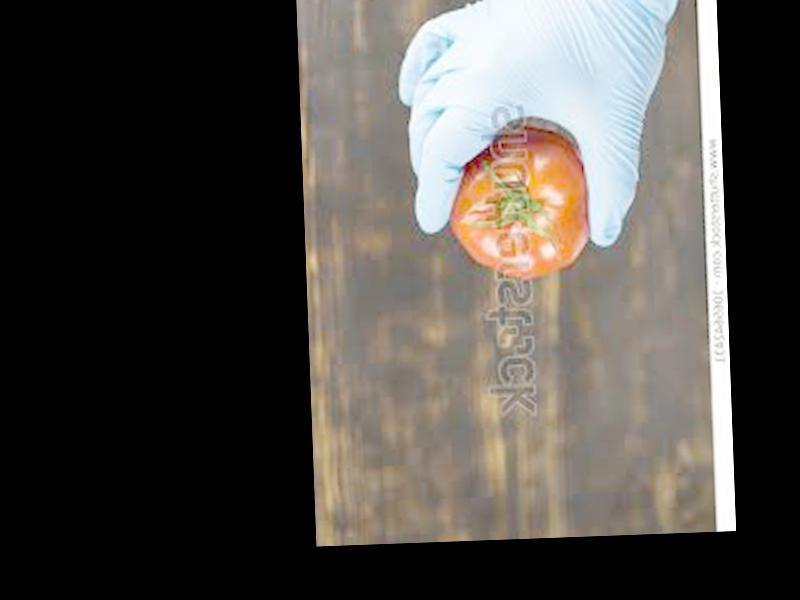Tomato: (446, 123, 592, 283)
